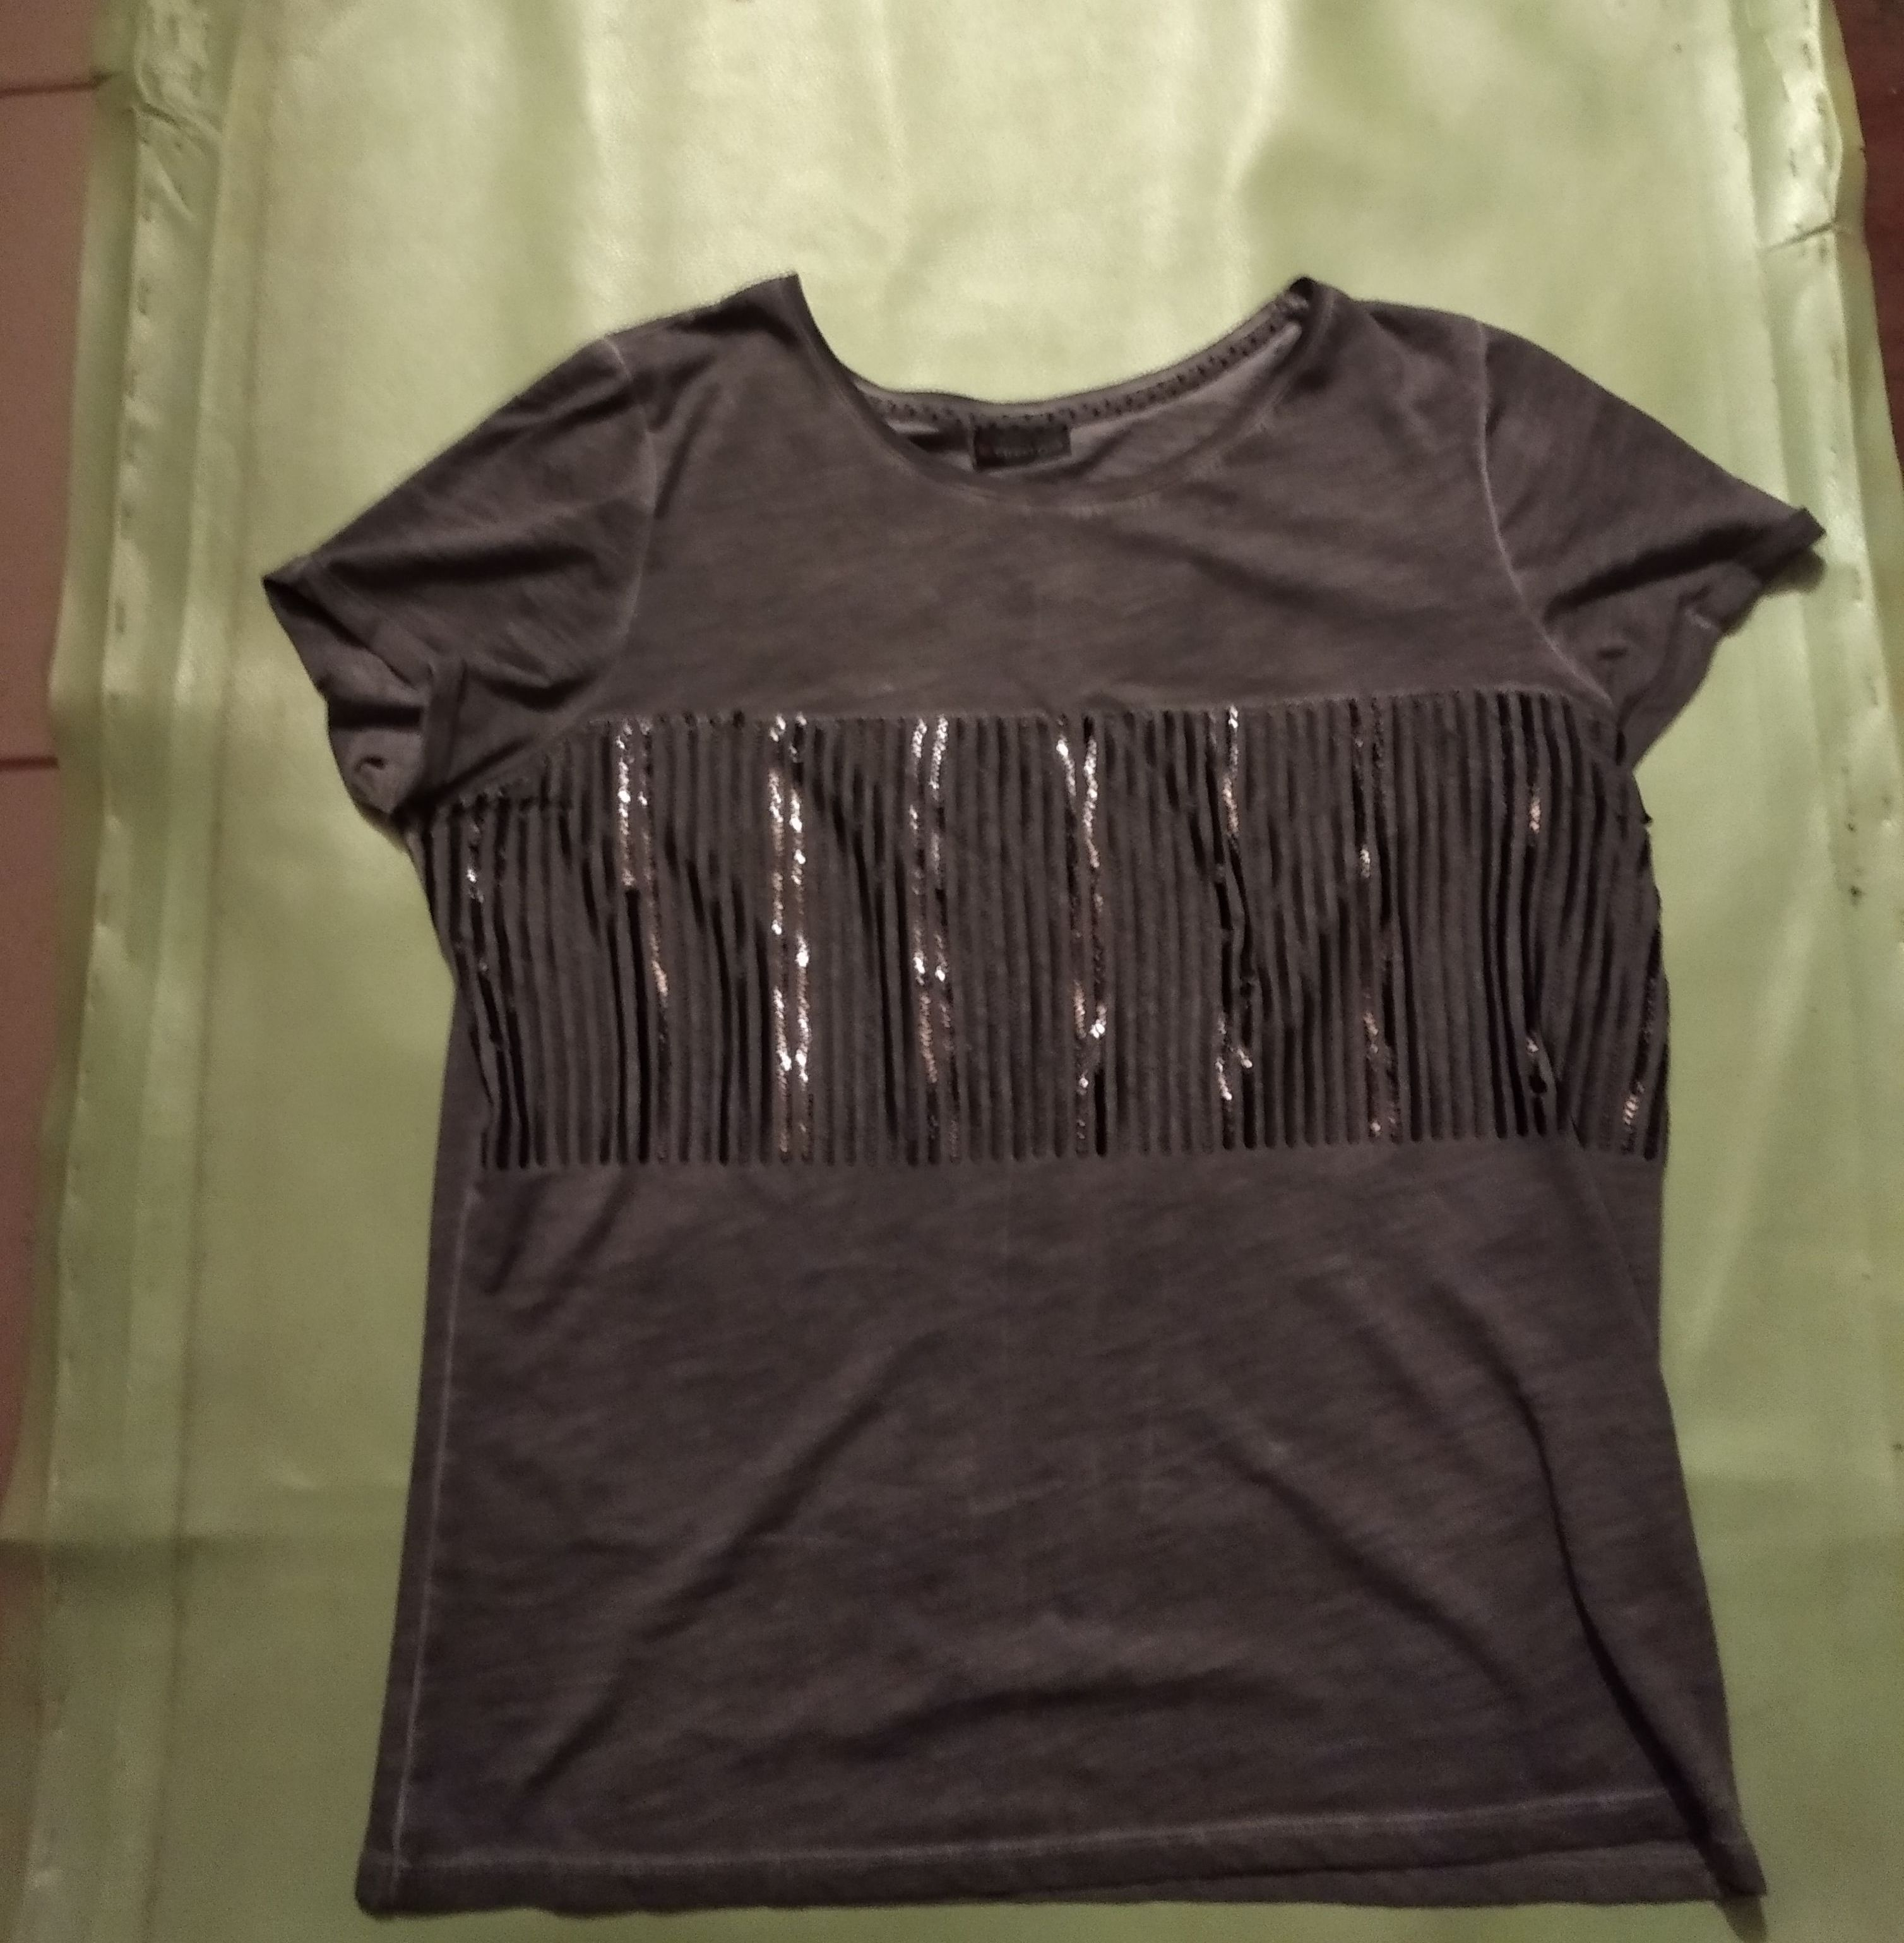clothes: (267, 269, 1829, 1870)
